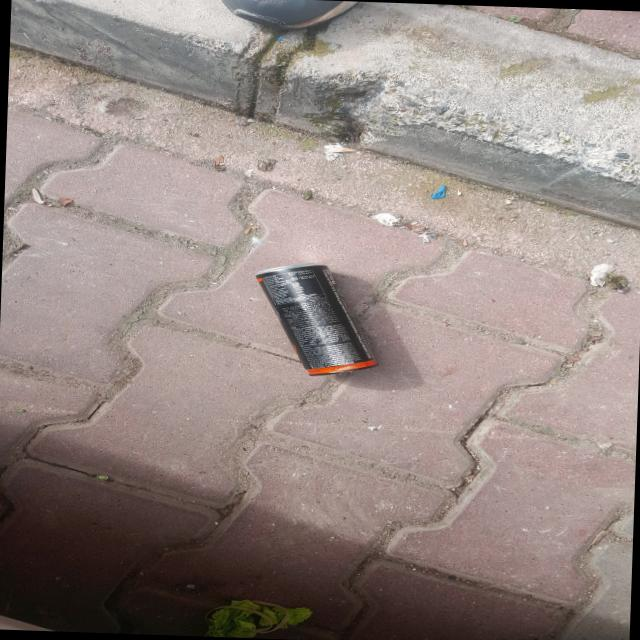less trash: (255, 263, 376, 375), (205, 599, 312, 638)
